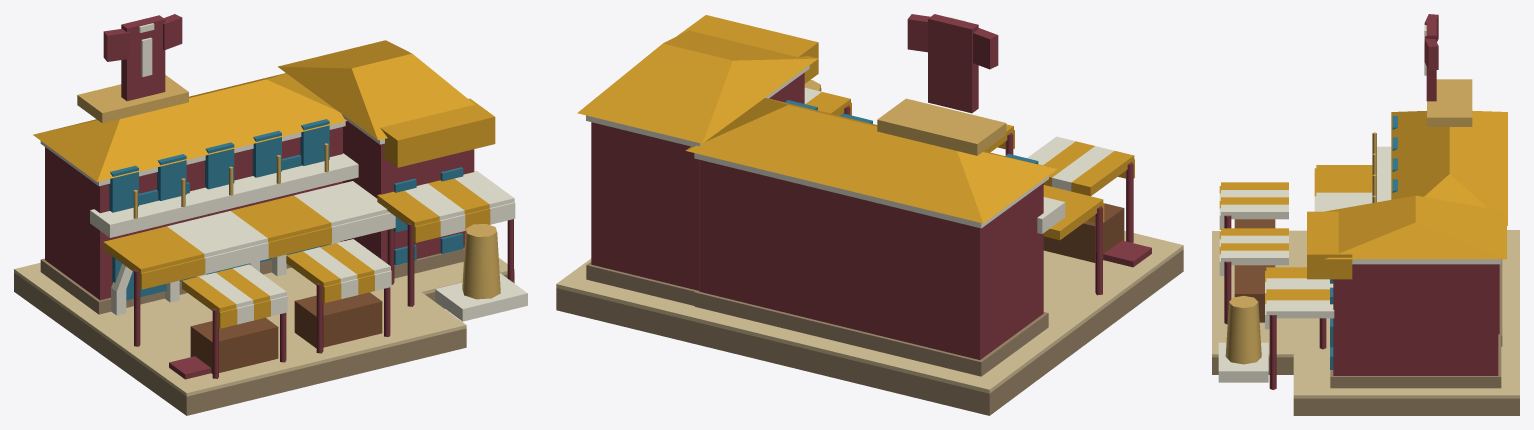
File: club-shop-lv3.glb
3 renders of one model, left to right at view 1: azimuth 30°, elevation 25°; view 2: azimuth 150°, elevation 25°; view 3: azimuth 270°, elevation 25°, orthographic. The views are drawn at different scales.
Parts seen in each view (by area): view 1: foundation_sand, market_row_roof_ochre, awnings_ochre, awnings_white, retail_corner_roof_ochre, market_row_burgundy, foundation_stoneDark, market_stalls_wood, shop_balcony_white, upper_shop_windows_glass, retail_corner_burgundy, corner_gate_ochre (+16 smaller); view 2: market_row_burgundy, market_row_roof_ochre, retail_corner_burgundy, foundation_sand, foundation_stoneDark, retail_corner_roof_ochre, jersey_sign_burgundy, market_row_stoneDark, awnings_ochre, sign_plinth_gold, corner_gate_ochre, market_stalls_wood (+7 smaller); view 3: retail_corner_burgundy, foundation_sand, market_row_roof_ochre, retail_corner_roof_ochre, awnings_white, awnings_ochre, foundation_stoneDark, corner_gate_ochre, retail_corner_stoneDark, club_trophy_gold, sign_plinth_gold, market_stalls_wood (+10 smaller).
Part boxes in pixels (box(x1,y1,x2,y2)): foundation_sand: box(14, 258, 514, 396); market_row_roof_ochre: box(33, 73, 346, 181); awnings_ochre: box(103, 178, 489, 315); awnings_white: box(167, 171, 514, 307); retail_corner_roof_ochre: box(278, 40, 474, 140); market_row_burgundy: box(45, 127, 342, 300); foundation_stoneDark: box(14, 272, 514, 415); market_stalls_wood: box(190, 292, 382, 373); shop_balcony_white: box(90, 153, 358, 237); upper_shop_windows_glass: box(109, 119, 329, 212); retail_corner_burgundy: box(343, 121, 474, 263); corner_gate_ochre: box(380, 98, 495, 167); market_row_burgundy: box(699, 159, 1043, 359); market_row_roof_ochre: box(685, 98, 1057, 223); retail_corner_burgundy: box(591, 72, 804, 290); foundation_sand: box(556, 230, 1183, 393); foundation_stoneDark: box(556, 249, 1183, 415); retail_corner_roof_ochre: box(577, 30, 818, 143); jersey_sign_burgundy: box(907, 14, 998, 113); market_row_stoneDark: box(694, 292, 1048, 376); awnings_ochre: box(805, 92, 1134, 240); sign_plinth_gold: box(877, 98, 1006, 155); corner_gate_ochre: box(677, 15, 818, 83); market_stalls_wood: box(1043, 203, 1124, 262); retail_corner_burgundy: box(1333, 264, 1498, 375); foundation_sand: box(1212, 230, 1519, 398); market_row_roof_ochre: box(1391, 110, 1507, 225); retail_corner_roof_ochre: box(1325, 195, 1506, 259); awnings_white: box(1221, 190, 1372, 318); awnings_ochre: box(1221, 165, 1372, 300); foundation_stoneDark: box(1212, 357, 1519, 415); corner_gate_ochre: box(1307, 211, 1352, 279); retail_corner_stoneDark: box(1330, 335, 1501, 388); club_trophy_gold: box(1225, 295, 1261, 364); sign_plinth_gold: box(1427, 79, 1472, 126); market_stalls_wood: box(1234, 219, 1275, 322).
Bounding box in the file's own units: 1 × 0.7283 × 0.7861.
